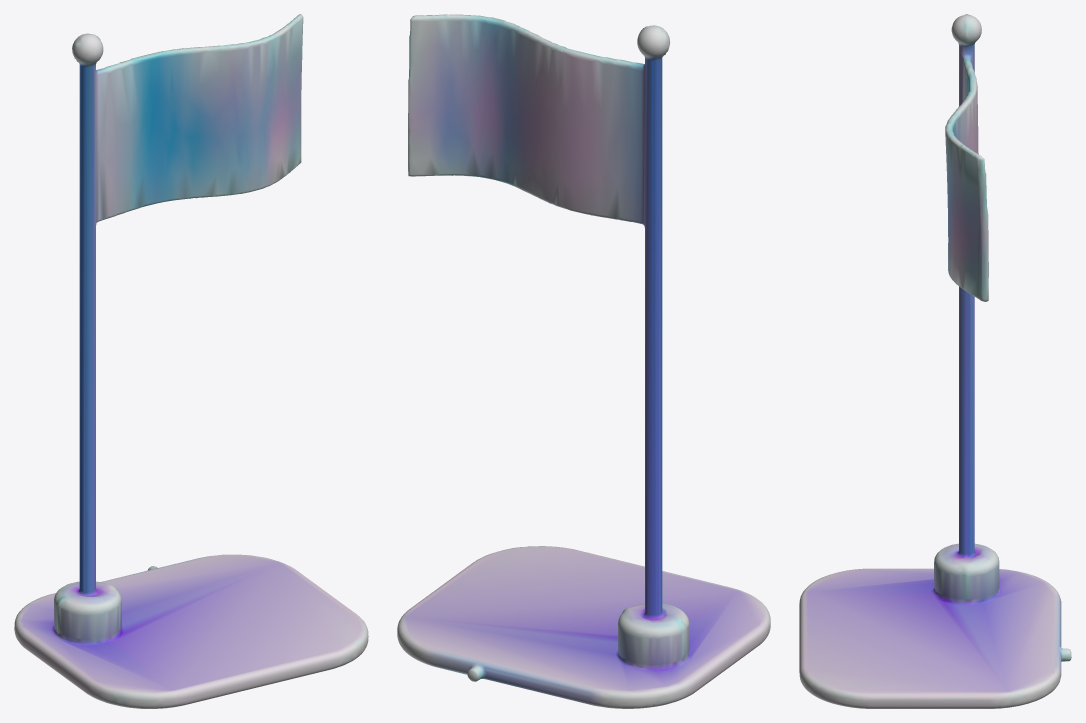
File: flag-lod1.glb
3 views of the same model, side by side, from view 1: azimuth 30°, elevation 25°; view 2: azimuth 150°, elevation 25°; view 3: azimuth 270°, elevation 25° (orthographic). The views are drawn at different scales.
Visible parts, largest first — view 1: flag-lod1; view 2: flag-lod1; view 3: flag-lod1.
Boxes of the visible parts, bbox=[...] form: flag-lod1: bbox=[14, 14, 368, 708]; flag-lod1: bbox=[397, 14, 770, 708]; flag-lod1: bbox=[799, 14, 1071, 708].
Bounding box in the file's own units: 0.4216 × 0.896 × 0.374.
